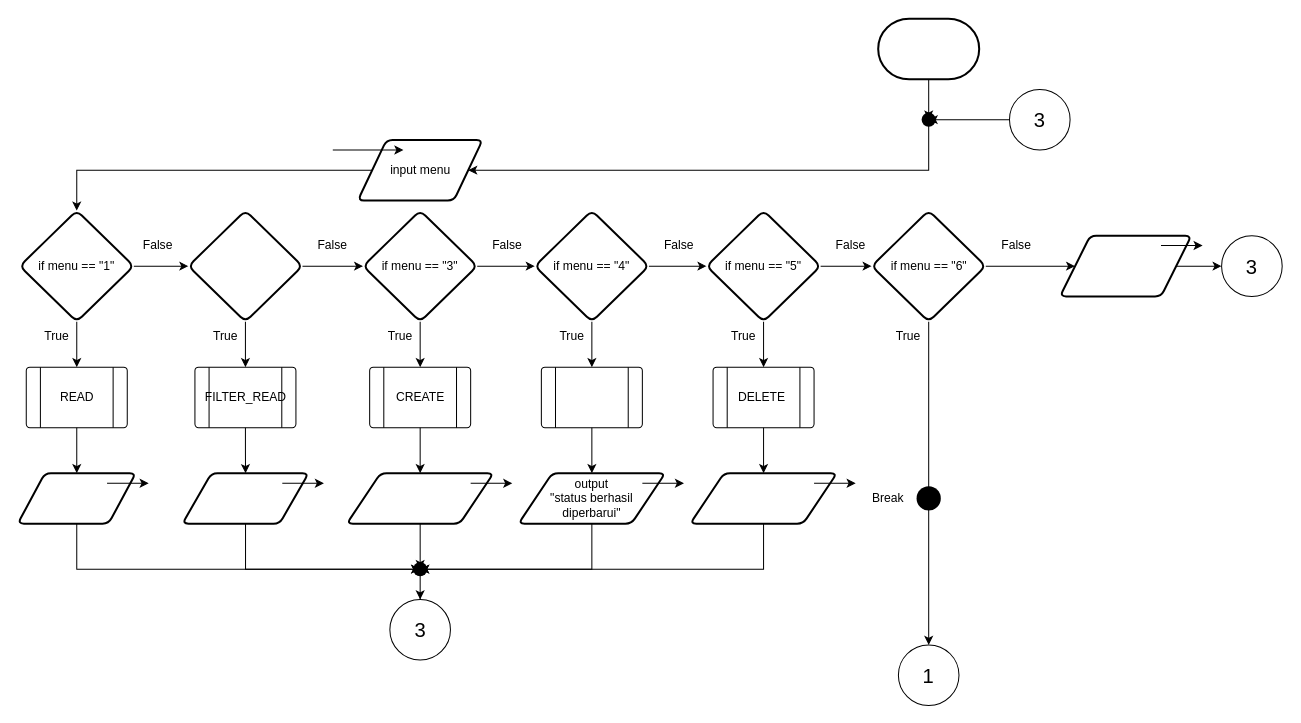
The diagram is 1301 pixels wide and 723 high, and some of its shapes have lost their labels. Each missing label, with the box of its shape:
if menu == "2": (187, 209, 303, 322)
MENU_ADMIN: (877, 17, 980, 80)
output "input tidak valid": (1058, 234, 1192, 297)
output "Laporan berhasil dibuat": (345, 472, 494, 524)
output "Laporan dihapus": (689, 472, 837, 524)
output data laporan: (16, 472, 136, 524)
output filter_data laporan: (181, 472, 309, 524)
UPDATE: (540, 366, 642, 428)
